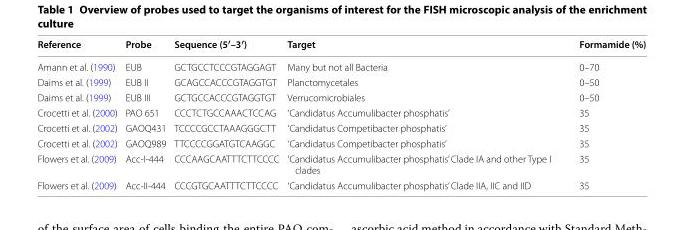table: (36, 37, 645, 190)
table column: (282, 37, 564, 190), (169, 37, 282, 190), (36, 37, 120, 190), (564, 37, 645, 190), (120, 37, 169, 190)
table column header: (36, 37, 645, 55)
table row: (36, 150, 645, 177), (36, 55, 645, 74), (36, 37, 645, 55), (36, 104, 645, 120), (36, 74, 645, 89), (36, 89, 645, 104), (36, 120, 645, 135), (36, 135, 645, 150), (36, 177, 645, 190)
